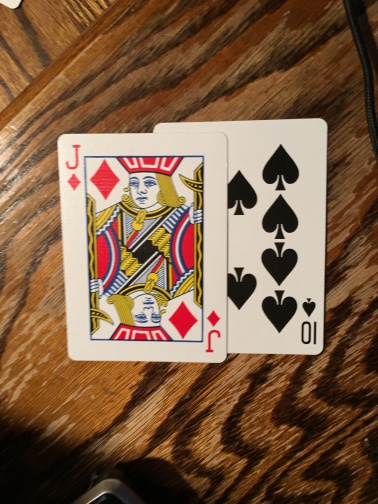jack: (57, 132, 228, 364)
ten: (225, 119, 324, 357)
